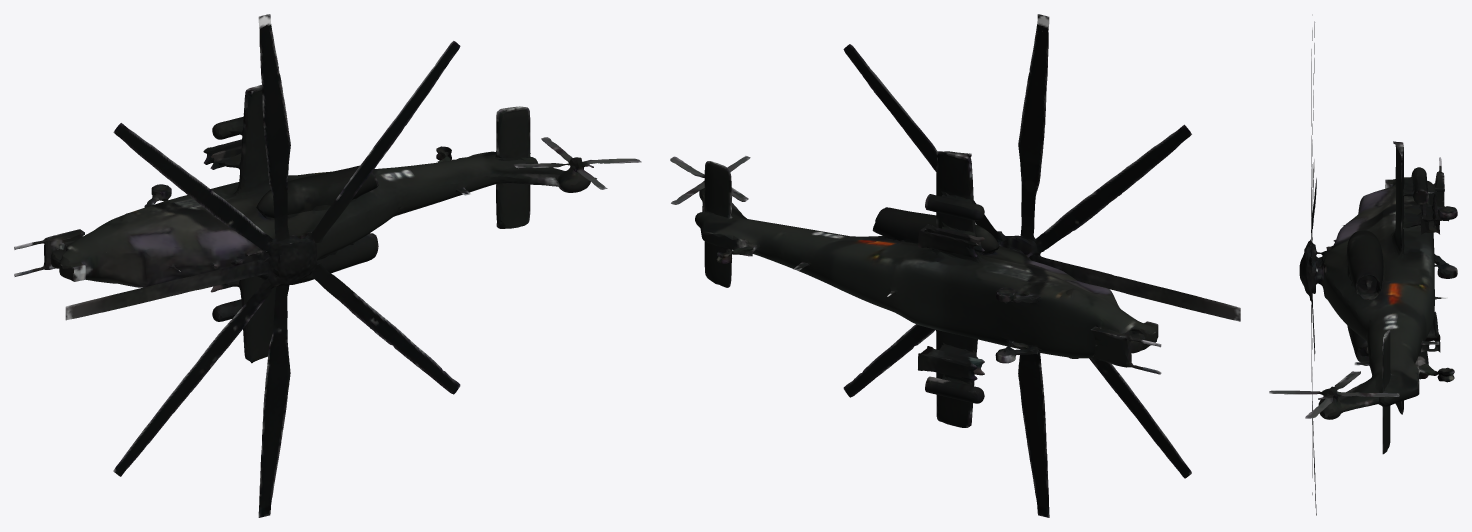
File: Z-10_Attack_Helicopter_AI_Rodin.glb
3 views of the same model, side by side, from view 1: azimuth 30°, elevation 25°; view 2: azimuth 150°, elevation 25°; view 3: azimuth 270°, elevation 25° (orthographic). The views are drawn at different scales.
Visible parts, largest first — view 1: Z-10_Attack_Helicopter; view 2: Z-10_Attack_Helicopter; view 3: Z-10_Attack_Helicopter.
Part boxes in pixels (bbox=[...]): Z-10_Attack_Helicopter: bbox=[14, 14, 641, 517]; Z-10_Attack_Helicopter: bbox=[670, 14, 1240, 517]; Z-10_Attack_Helicopter: bbox=[1269, 14, 1457, 515].
Bounding box in the file's own units: 1.9 × 1.59 × 0.5641.
1 material, 1 textured.
